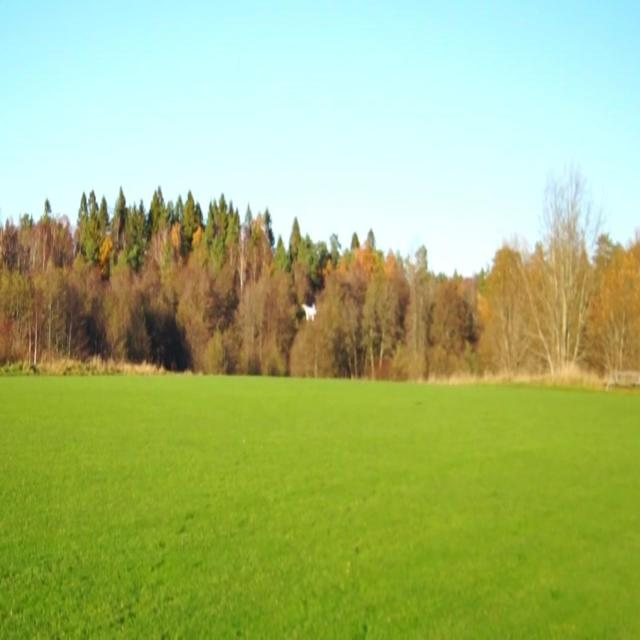drone: (300, 298, 318, 324)
